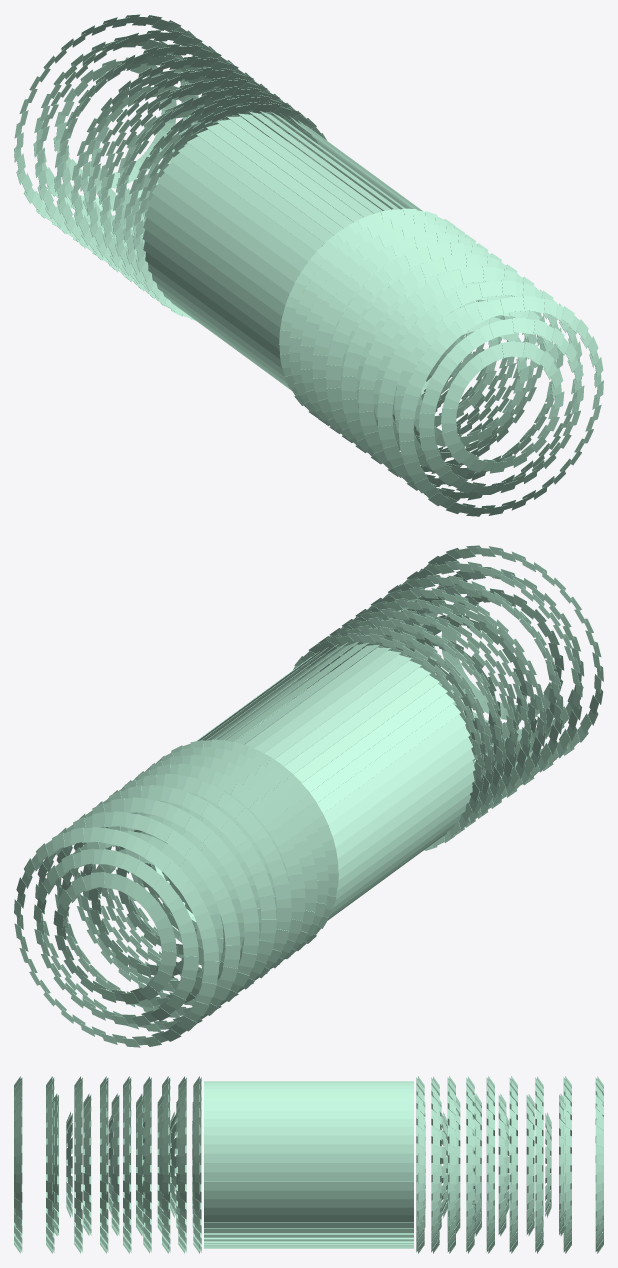
Rendered from ITK-Pixel-Layout-Outer-Barrel.glb.
3 views of the same model, one above another, from view 1: azimuth 30°, elevation 25°; view 2: azimuth 150°, elevation 25°; view 3: azimuth 270°, elevation 25° (orthographic). The views are drawn at different scales.
Parts seen in each view (by area): view 1: ITK_Pixel_Layout_Outer_Barrel; view 2: ITK_Pixel_Layout_Outer_Barrel; view 3: ITK_Pixel_Layout_Outer_Barrel.
Part boxes in pixels (box(x1,y1,x2,y2)): ITK_Pixel_Layout_Outer_Barrel: box(14, 14, 603, 516); ITK_Pixel_Layout_Outer_Barrel: box(14, 545, 603, 1047); ITK_Pixel_Layout_Outer_Barrel: box(14, 1076, 603, 1253).
Size of the model in its own units: 0.6337 by 0.6337 by 2.1.
